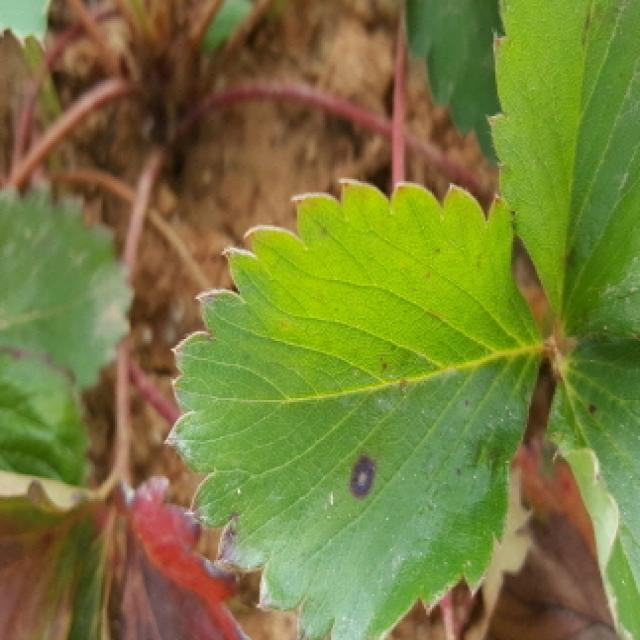Leaf Spot: (161, 180, 545, 640), (486, 0, 640, 341), (542, 338, 640, 640)
